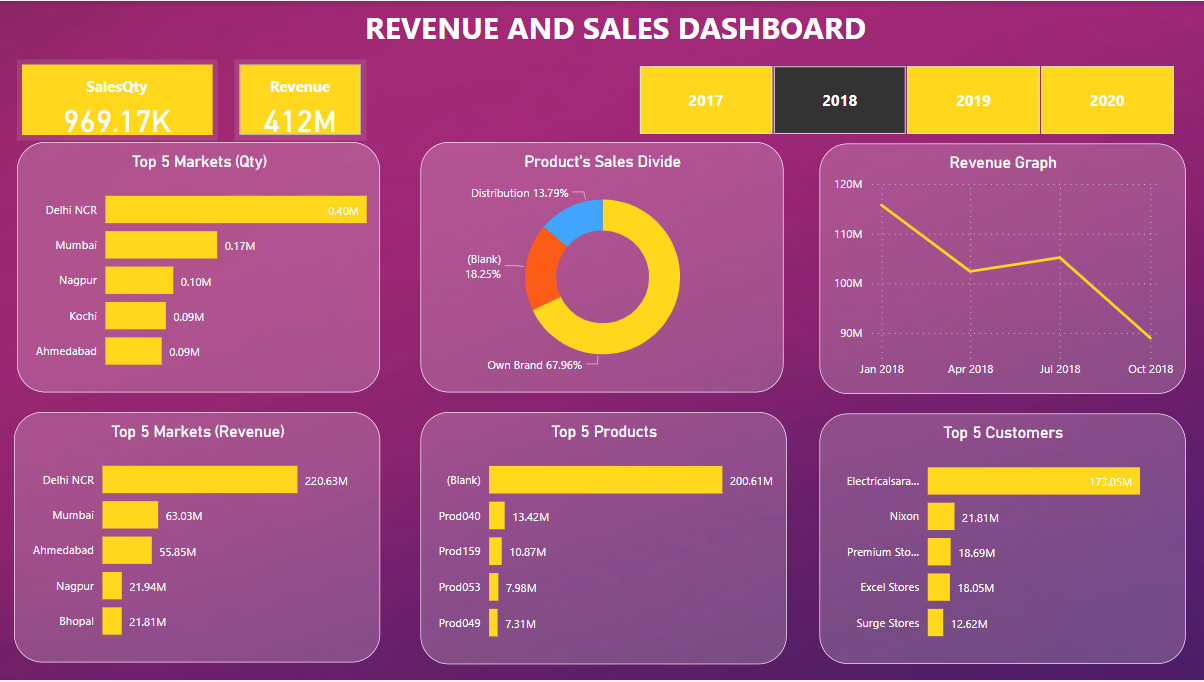

The page's visual inventory and layout, read from the dashboard file:
{"tool":"powerbi","page":{"name":"Page 1","canvas":[1280,720],"ordinal":0},"visuals":[{"type":"barChart","title":"Top 5 Markets (Revenue)","fields":{"Category":["markets.market_name"],"Y":["transactions.Revenue"]},"box":[15.9,435.5,387.8,265.4],"z":0},{"type":"cardVisual","fields":{"Data":["transactions.SalesQty"]},"box":[19.1,62,213,85.8],"z":1000},{"type":"cardVisual","fields":{"Data":["transactions.Revenue"]},"box":[249.5,62,139.9,85.8],"z":2000},{"type":"barChart","title":"Top 5 Customers","fields":{"Category":["customers.customer_name"],"Y":["transactions.Revenue"]},"box":[869.4,437.1,387.8,265.4],"z":3000},{"type":"slicer","fields":{"Values":["date.year"]},"box":[653.2,62,615.1,85.8],"z":4000},{"type":"lineChart","title":"Revenue Graph","fields":{"Y":["transactions.Revenue"],"Category":["date.cy_date.Variation.Date Hierarchy.Year","date.cy_date.Variation.Date Hierarchy.Quarter"]},"box":[869.4,151,387.8,265.4],"z":5000},{"type":"clusteredBarChart","title":"Top 5 Products","fields":{"Category":["products.product_code"],"Y":["transactions.Revenue"]},"box":[446.6,435.5,387.8,267],"z":6000},{"type":"donutChart","title":"Product''s Sales Divide","fields":{"Category":["products.product_type"],"Y":["transactions.SalesQty"]},"box":[446.6,149.4,384.6,265.4],"z":7000},{"type":"textbox","box":[367.2,0,572.2,62],"z":8000},{"type":"barChart","title":"Top 5 Markets (Qty)","fields":{"Category":["markets.market_name"],"Y":["transactions.SalesQty"]},"box":[19.1,149.4,384.6,265.4],"z":9000}]}

Visuals, with their boxes in screenshot pixels (x1, y1, x2, y2), scaled from the page's 1280x720 canvas onto the 1204x682 screenshot:
"Top 5 Markets (Revenue)" barChart: bbox=[15, 413, 380, 664]
cardVisual - transactions.SalesQty: bbox=[18, 59, 218, 140]
cardVisual - transactions.Revenue: bbox=[235, 59, 366, 140]
"Top 5 Customers" barChart: bbox=[818, 414, 1183, 665]
slicer - date.year: bbox=[614, 59, 1193, 140]
"Revenue Graph" lineChart: bbox=[818, 143, 1183, 394]
"Top 5 Products" clusteredBarChart: bbox=[420, 413, 785, 665]
"Product''s Sales Divide" donutChart: bbox=[420, 142, 782, 393]
textbox: bbox=[345, 0, 884, 59]
"Top 5 Markets (Qty)" barChart: bbox=[18, 142, 380, 393]
